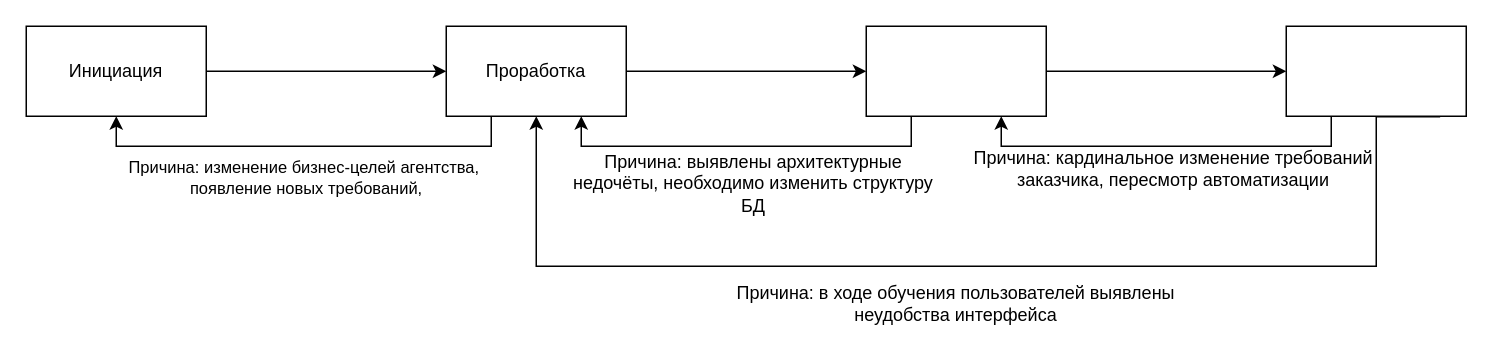
This 1493x353 diagram has some shape labels left out. The box of each missing label's shape, as (x1, y1, x2, y2) in pixels:
Внедрение: (1285, 25, 1466, 116)
Конструирование: (865, 25, 1046, 116)
